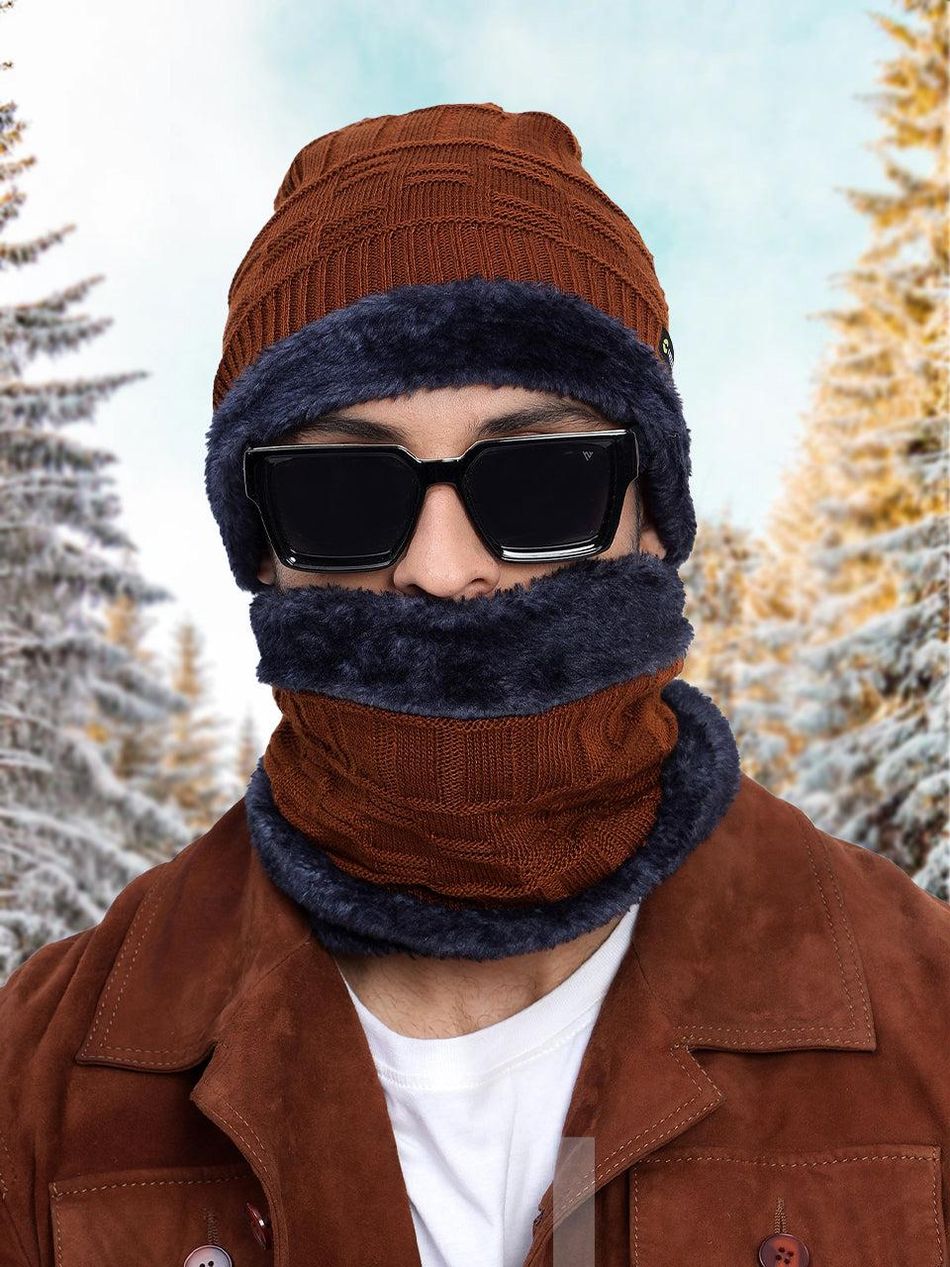cap: (191, 69, 715, 512)
scarf-kerchief: (225, 551, 755, 921)
sunglasses: (228, 423, 633, 584)
